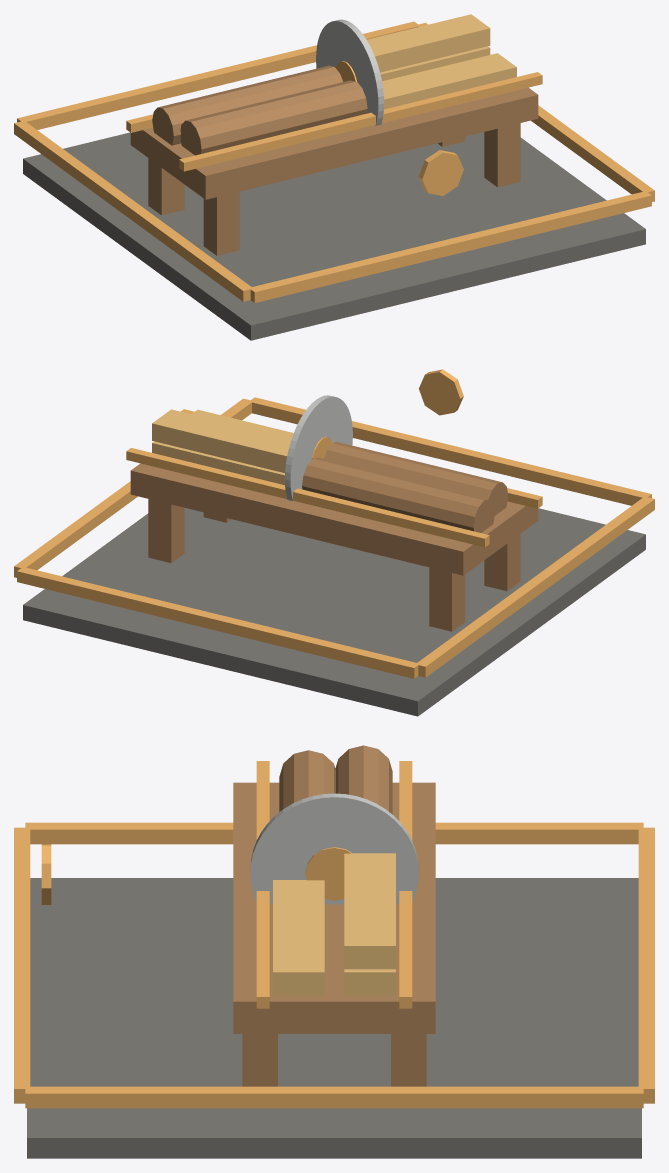
The model's file is t6_sawmill.glb.
The picture shows the model from 3 angles, top to bottom: view 1: azimuth 30°, elevation 25°; view 2: azimuth 150°, elevation 25°; view 3: azimuth 270°, elevation 25°; orthographic projection. The views are drawn at different scales.
Parts seen in each view (by area): view 1: FootprintBase, TableTop, TierFrontTrim, InputLogA, TierBackTrim, TierLeftTrim, LeftRail, InputLogB, OutputPlank.001, OutputPlank.002, SawBlade, TierRightTrim (+5 smaller); view 2: FootprintBase, TableTop, TierBackTrim, InputLogB, TierFrontTrim, TierLeftTrim, RightRail, OutputPlank.001, InputLogA, SawBlade, TierRightTrim, TableLeg.001 (+6 smaller); view 3: FootprintBase, TableTop, TierRightTrim, SawBlade, TierLeftTrim, OutputPlank.001, OutputPlank.002, TierBackTrim, TierFrontTrim, InputLogB, LeftRail, RightRail (+6 smaller).
Boxes of the visible parts, <box> form: FootprintBase: <box>23,132,645,340</box>; TableTop: <box>130,87,538,199</box>; TierFrontTrim: <box>249,191,651,302</box>; InputLogA: <box>180,80,367,155</box>; TierBackTrim: <box>17,21,419,129</box>; TierLeftTrim: <box>14,120,251,301</box>; LeftRail: <box>179,72,542,171</box>; InputLogB: <box>152,65,343,145</box>; OutputPlank.001: <box>367,14,490,72</box>; OutputPlank.002: <box>382,53,516,109</box>; SawBlade: <box>316,19,383,125</box>; TierRightTrim: <box>417,22,654,201</box>; FootprintBase: <box>23,508,645,716</box>; TableTop: <box>130,463,538,575</box>; TierBackTrim: <box>17,567,419,678</box>; InputLogB: <box>302,457,494,532</box>; TierFrontTrim: <box>249,397,651,505</box>; TierLeftTrim: <box>416,497,654,677</box>; RightRail: <box>126,448,489,547</box>; OutputPlank.001: <box>152,409,291,472</box>; InputLogA: <box>324,442,508,515</box>; SawBlade: <box>285,395,352,501</box>; TierRightTrim: <box>14,398,251,577</box>; TableLeg.001: <box>429,567,465,631</box>; FootprintBase: <box>27,878,641,1158</box>; TableTop: <box>233,782,435,1033</box>; TierRightTrim: <box>25,1086,643,1108</box>; SawBlade: <box>250,793,418,904</box>; TierLeftTrim: <box>25,822,643,844</box>; OutputPlank.001: <box>344,853,395,969</box>; OutputPlank.002: <box>273,880,324,995</box>; TierBackTrim: <box>638,827,654,1103</box>; TierFrontTrim: <box>14,827,30,1103</box>; InputLogB: <box>335,745,392,814</box>; LeftRail: <box>256,761,269,1008</box>; RightRail: <box>399,761,412,1008</box>.
Size of the model in its own units: 3.96 by 1.66 by 3.96.
